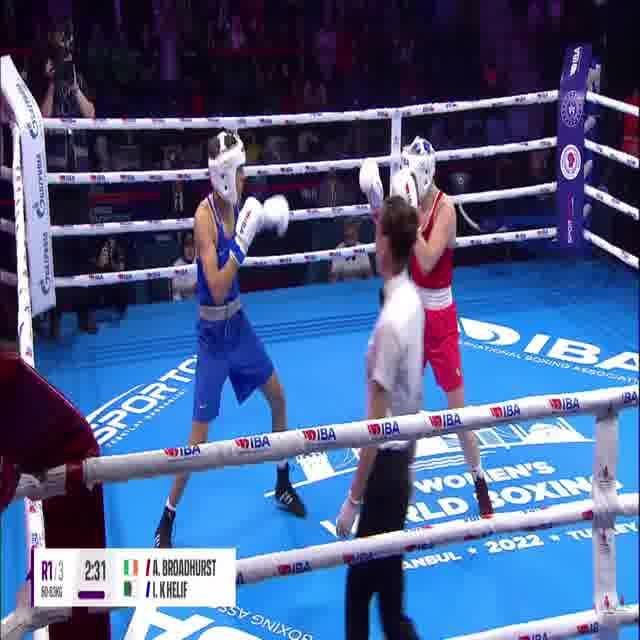blue-player: (149, 123, 310, 553)
red-player: (357, 133, 499, 525)
referee: (339, 197, 425, 640)
